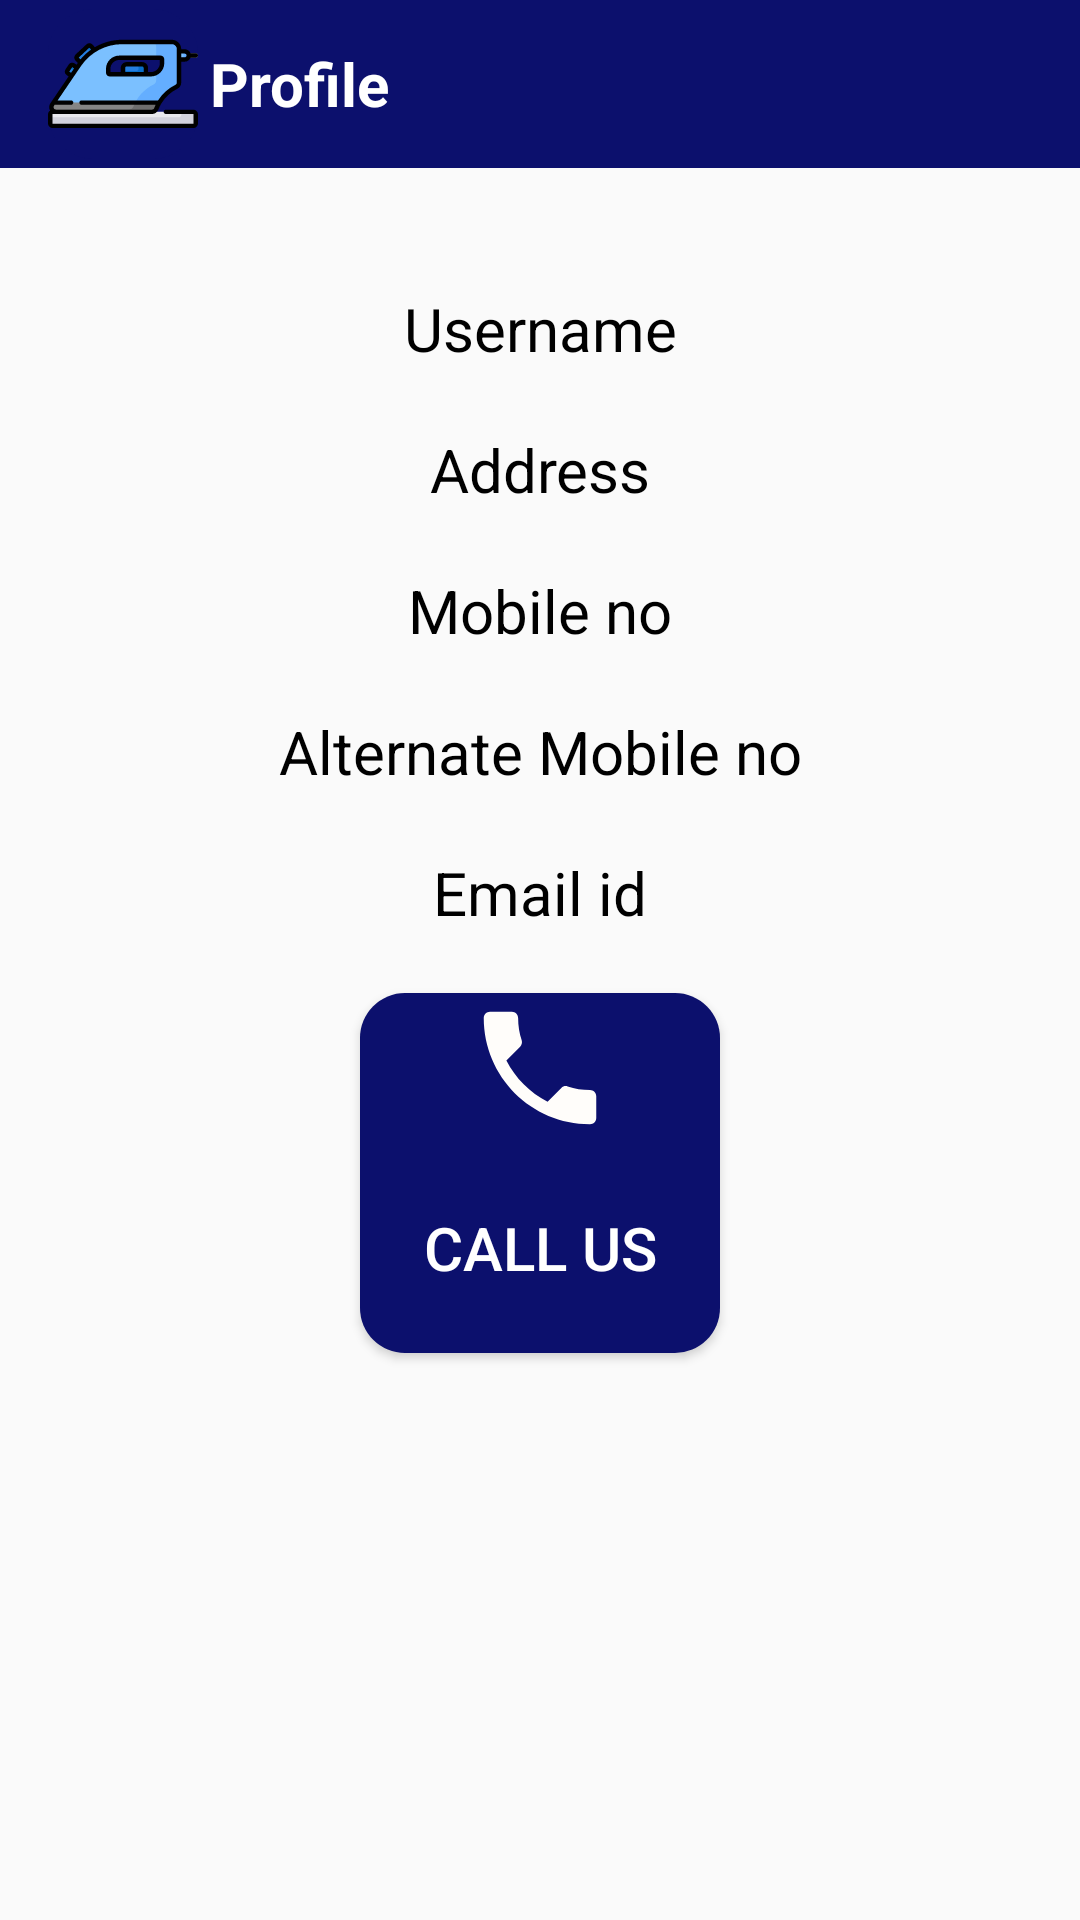

Screen size 1080 x 1920. Icon name, then its center in pixels as [x,y]:
iron: [123,83]
